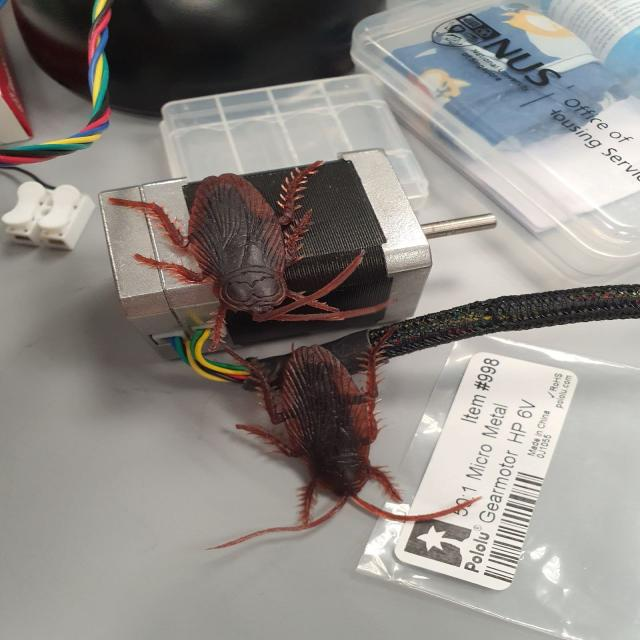Cockroach: (184, 322, 479, 566), (87, 148, 394, 342)
